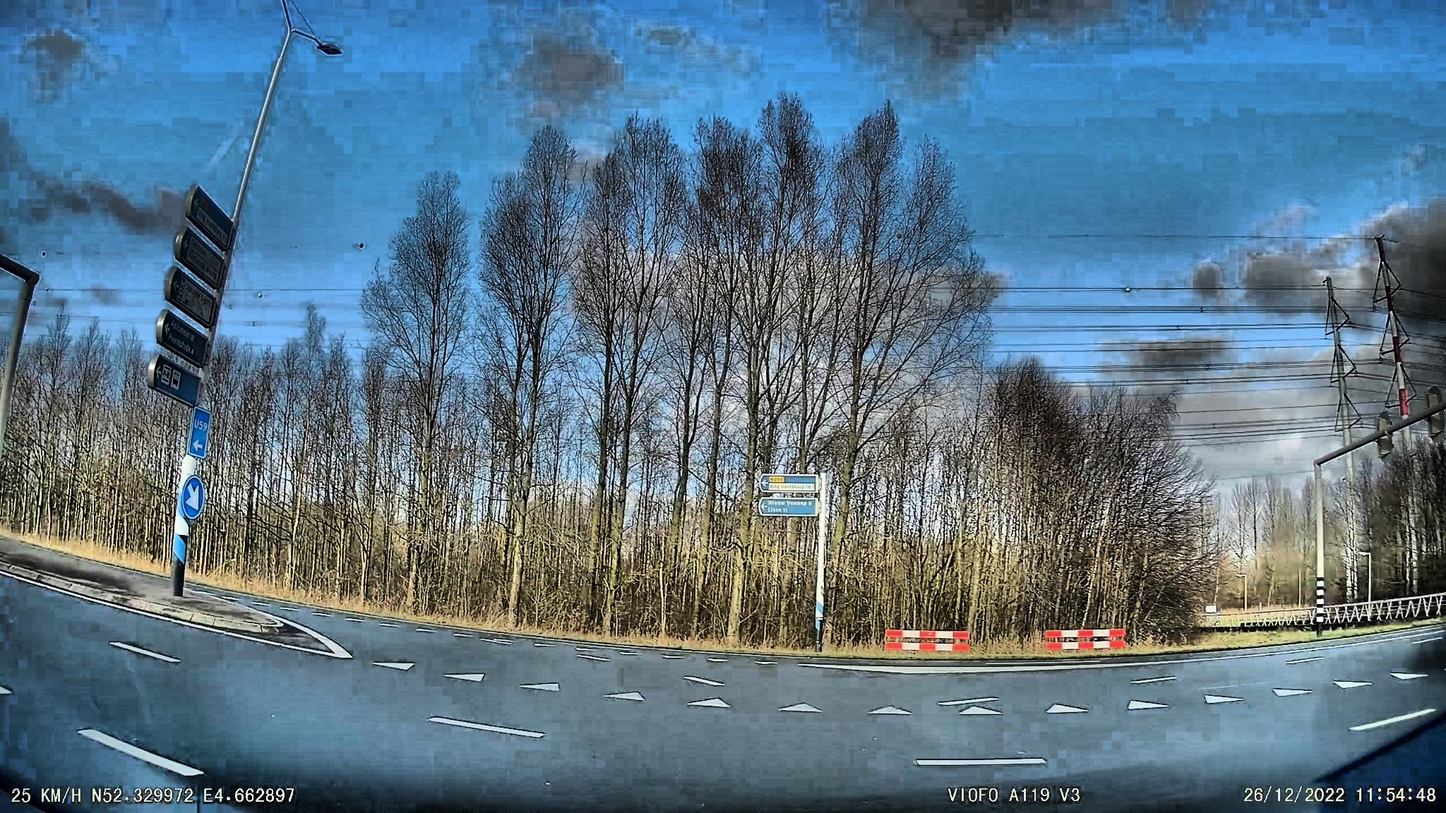Roads: (0, 576, 1446, 813)
